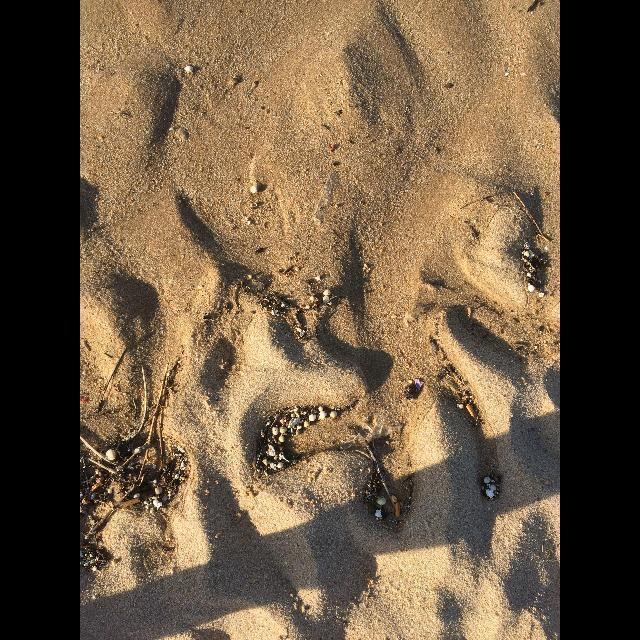Plastic: (338, 417, 402, 449), (313, 170, 341, 222), (288, 417, 300, 429), (485, 489, 493, 497), (156, 502, 162, 508), (376, 509, 380, 516), (539, 292, 543, 298)
